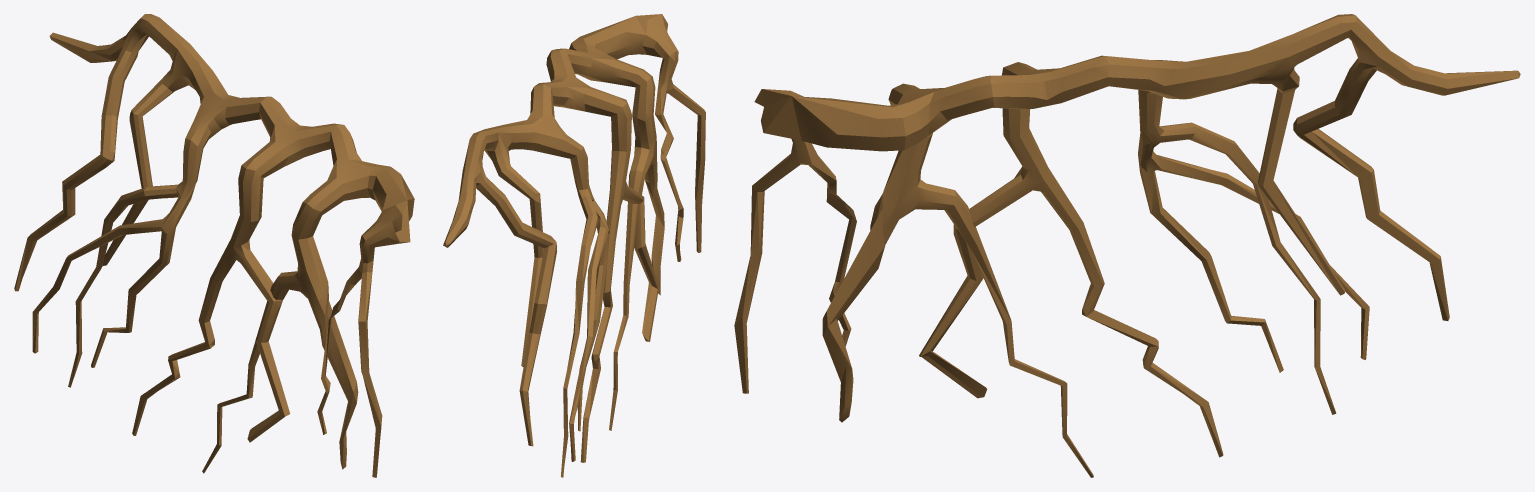
Rendered from ea_nature_tree_root_1d_pre__1__lev1.glb.
3 renders of one model, left to right at view 1: azimuth 30°, elevation 25°; view 2: azimuth 150°, elevation 25°; view 3: azimuth 270°, elevation 25°, orthographic. The views are drawn at different scales.
Visible parts, largest first — view 1: ea_nature_tree_root_1d_pre__1__lev1; view 2: ea_nature_tree_root_1d_pre__1__lev1; view 3: ea_nature_tree_root_1d_pre__1__lev1.
Boxes of the visible parts, <box> form: ea_nature_tree_root_1d_pre__1__lev1: <box>14,14,414,477</box>; ea_nature_tree_root_1d_pre__1__lev1: <box>443,14,705,477</box>; ea_nature_tree_root_1d_pre__1__lev1: <box>734,14,1520,477</box>.
Bounding box in the file's own units: 1.16 × 2.26 × 3.28.
1 material, 1 textured.
